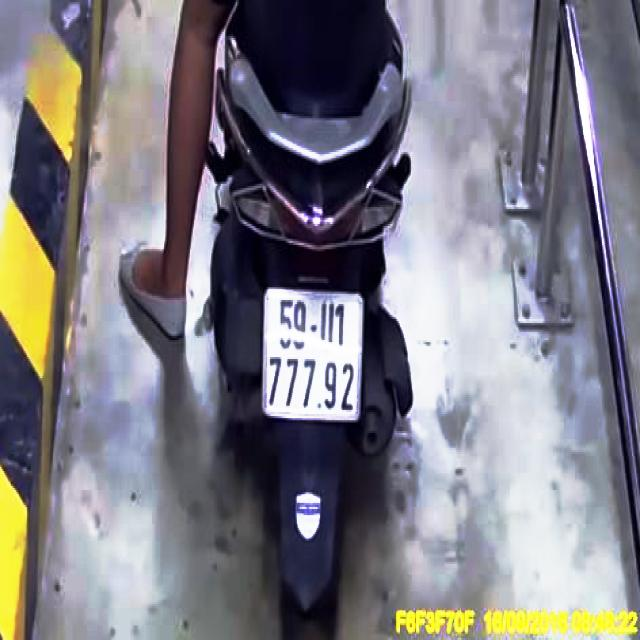license_plate: (264, 291, 363, 418)
